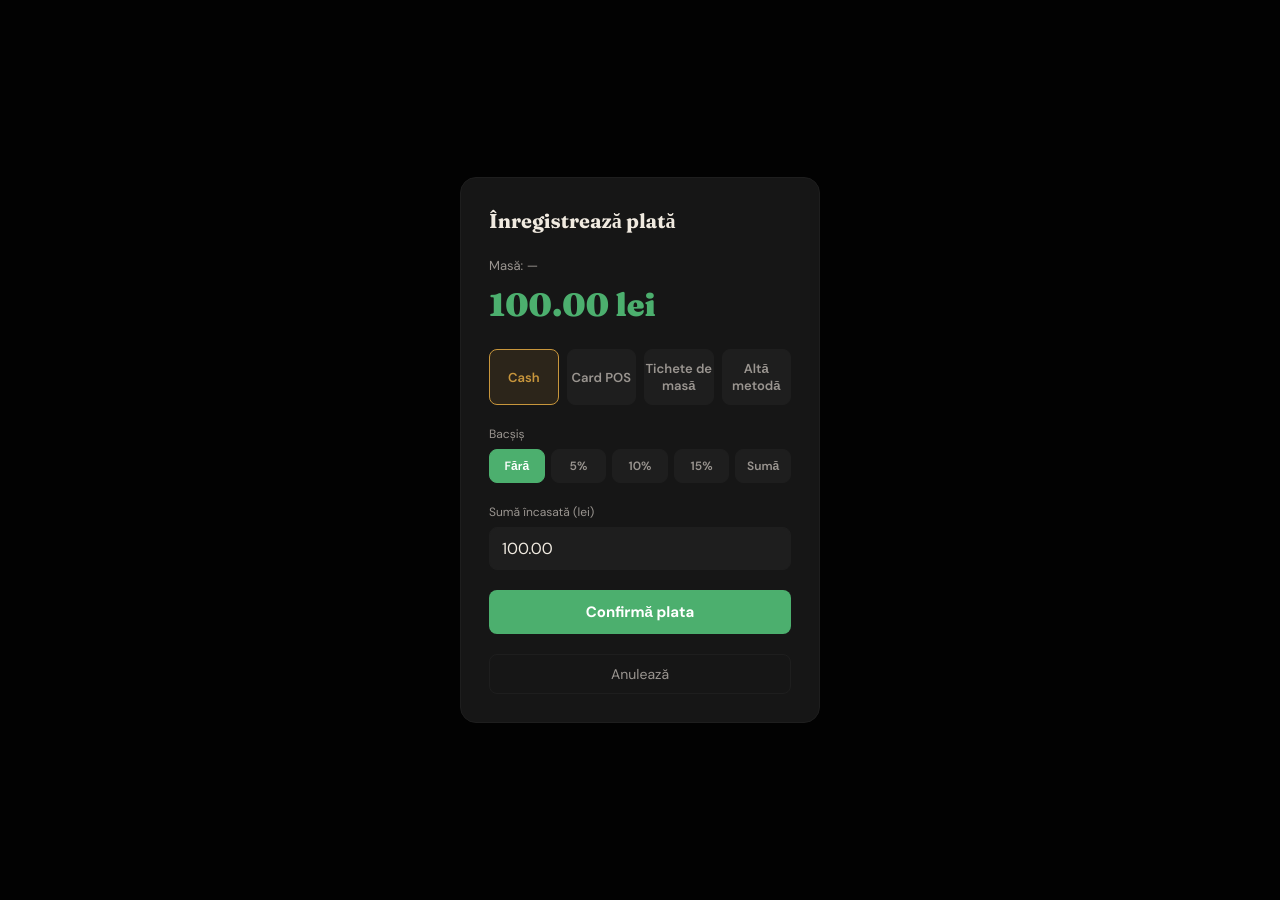
Test: PayModal — hint-urile serverului și pre-flight-ul de sumă › mig 291: egalitate EXACTĂ pe cenți — 99.99 și 100.01 pe un rest de 100 declanșează preflight-ul (înainte: toleranța ±0,01 tăcea)
Replace the text in the number field with "99.99" at (640, 549), box [489, 527, 791, 570]
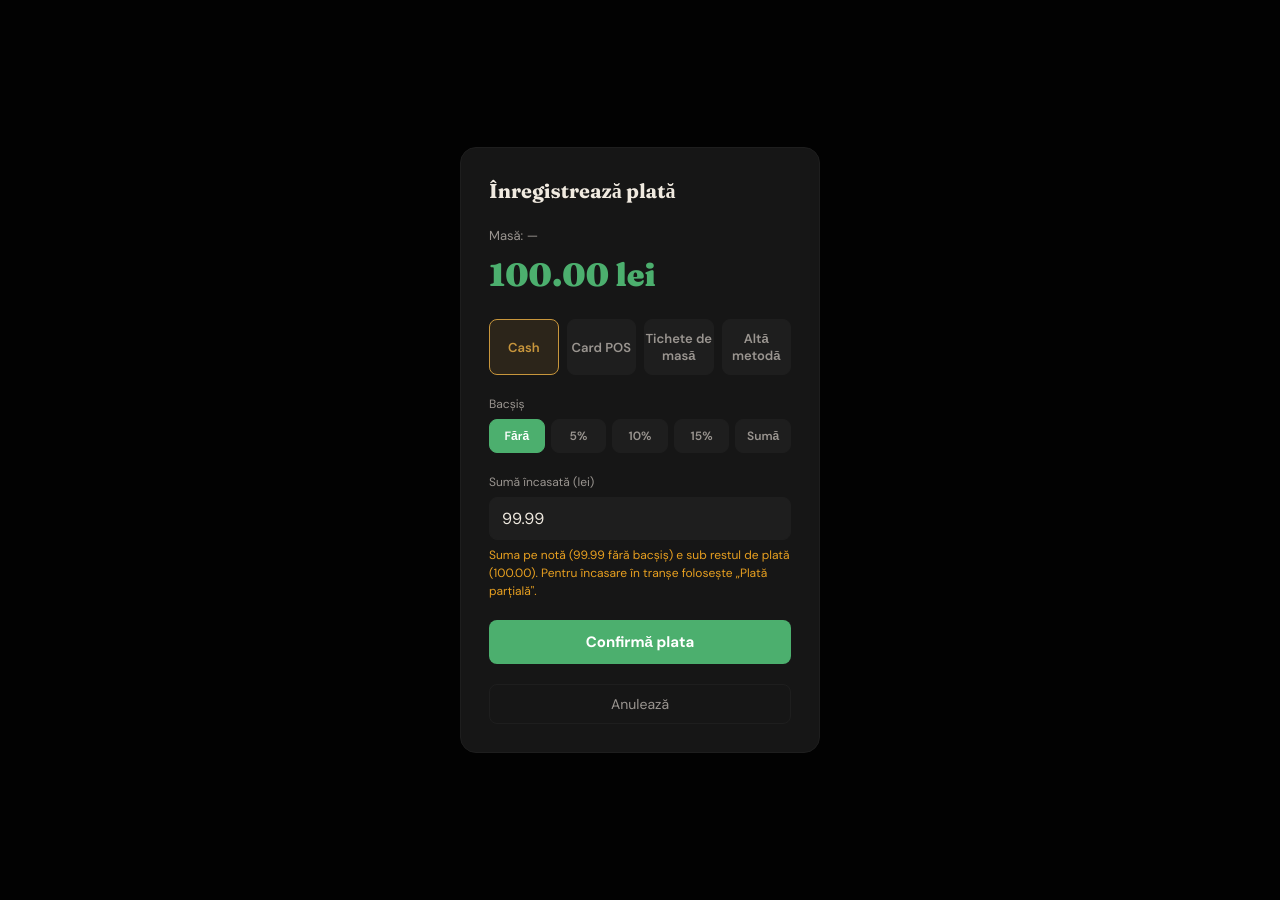
Expected: the message shows "sub restul de plată", [489, 547, 790, 599]
Replace the text in the number field with "100.01" at (640, 519), box [489, 497, 791, 540]
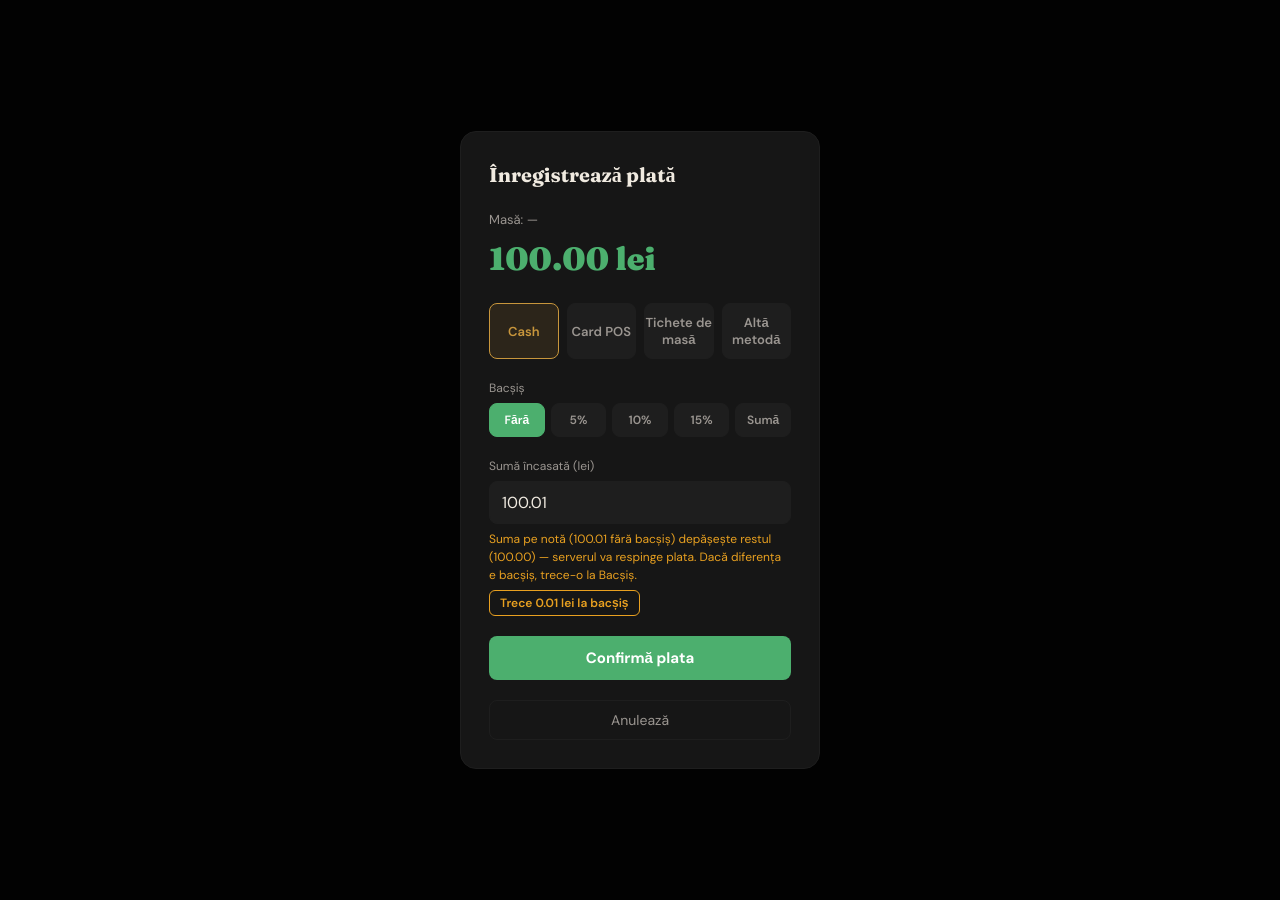
Expected: the message shows "depășește restul", [489, 531, 781, 583]
# Control pozitiv: suma exactă nu avertizează.
Replace the text in the number field with "100.00" at (640, 503), box [489, 481, 791, 524]
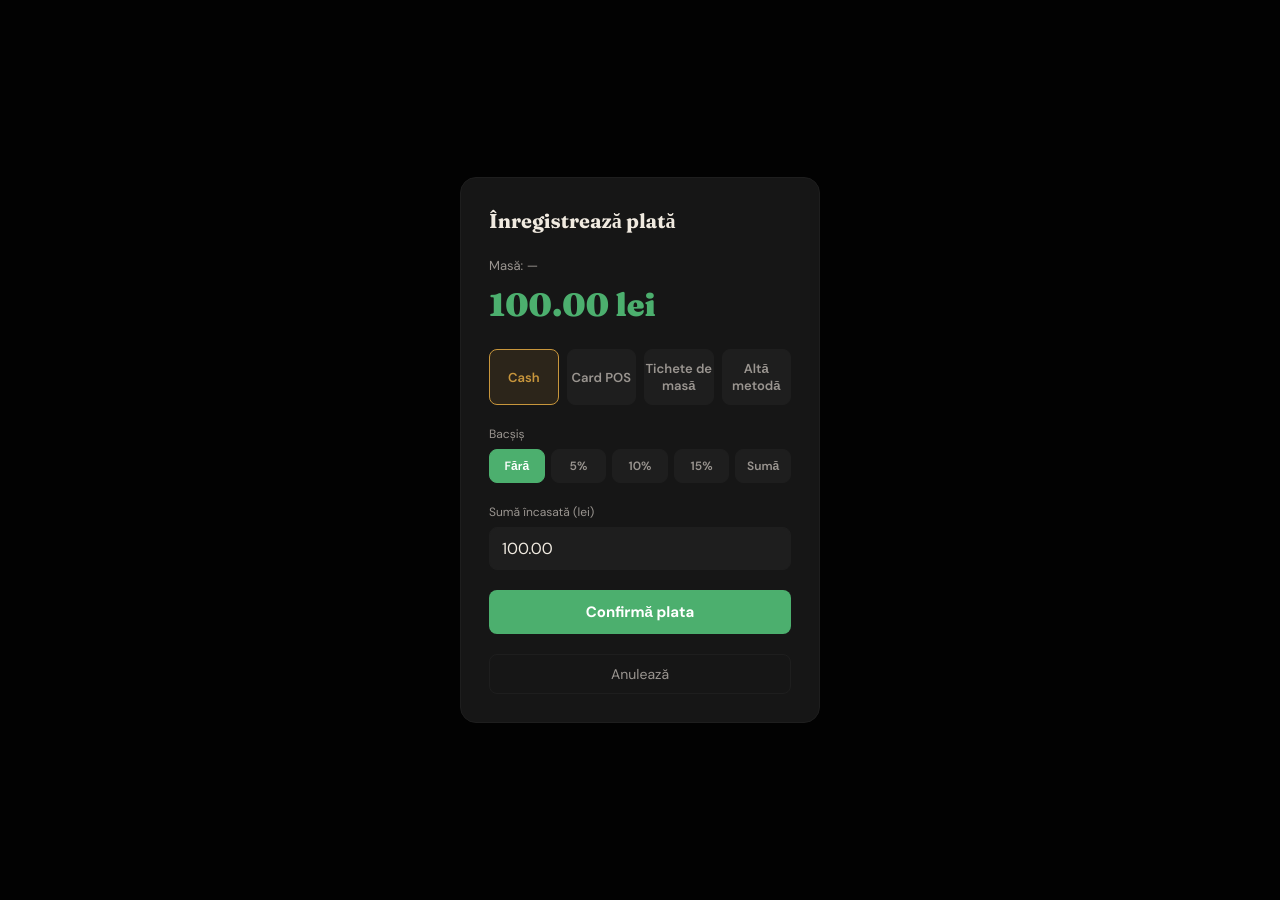
Expected: the message is gone
